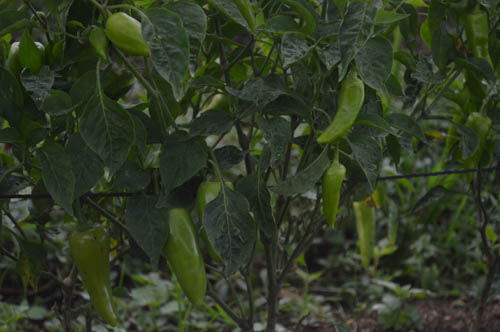ChiliPepper: (73, 228, 118, 322), (164, 211, 204, 301), (317, 79, 364, 148), (197, 181, 225, 258), (105, 15, 152, 55), (359, 197, 373, 263), (325, 165, 340, 224)
